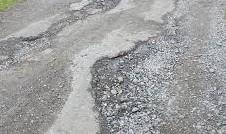pothole: (88, 0, 224, 134)
